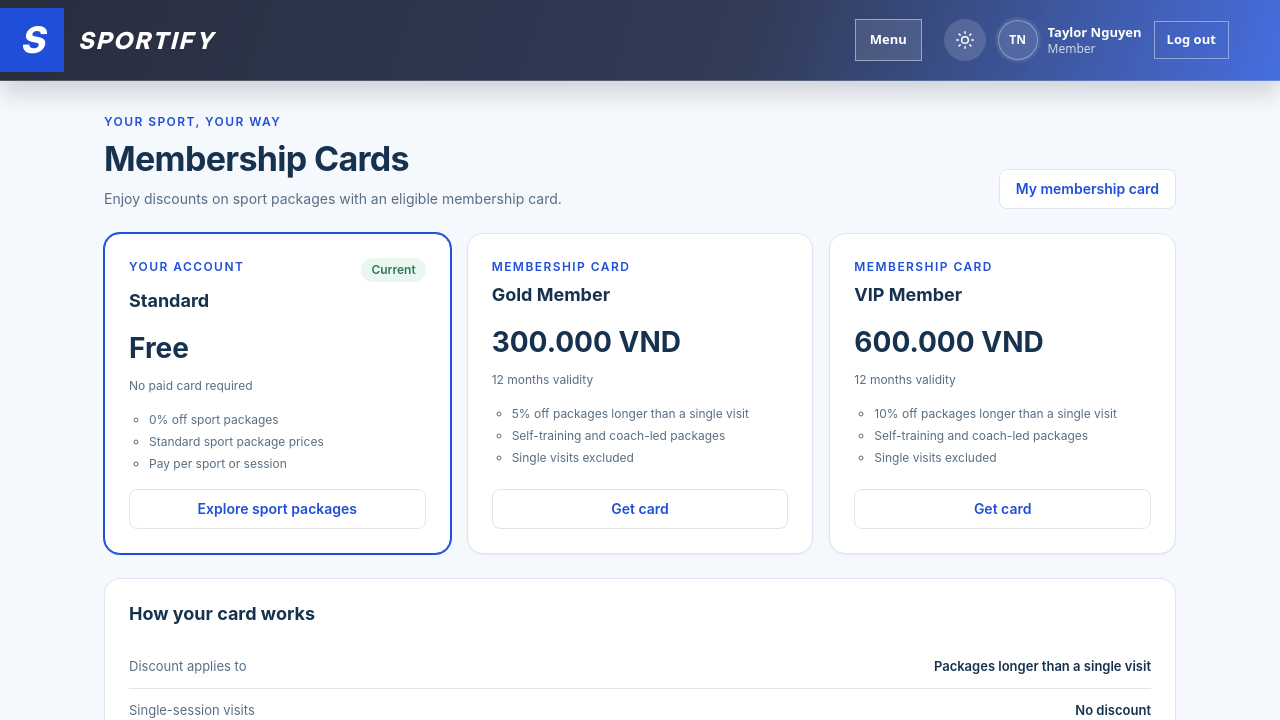
Test case: FE-04 Membership Cards (F1-11) › TC-FE04-031 new card: overlay shows today to the end of the term and the full price
The image size is (1280, 720).
expect the list named "Membership card tiers" is shown: met, box top-left (104, 233), bottom-right (1176, 554)
Click the button "Get card" below "Gold Member": (640, 509) top-left (492, 489), bottom-right (788, 529)
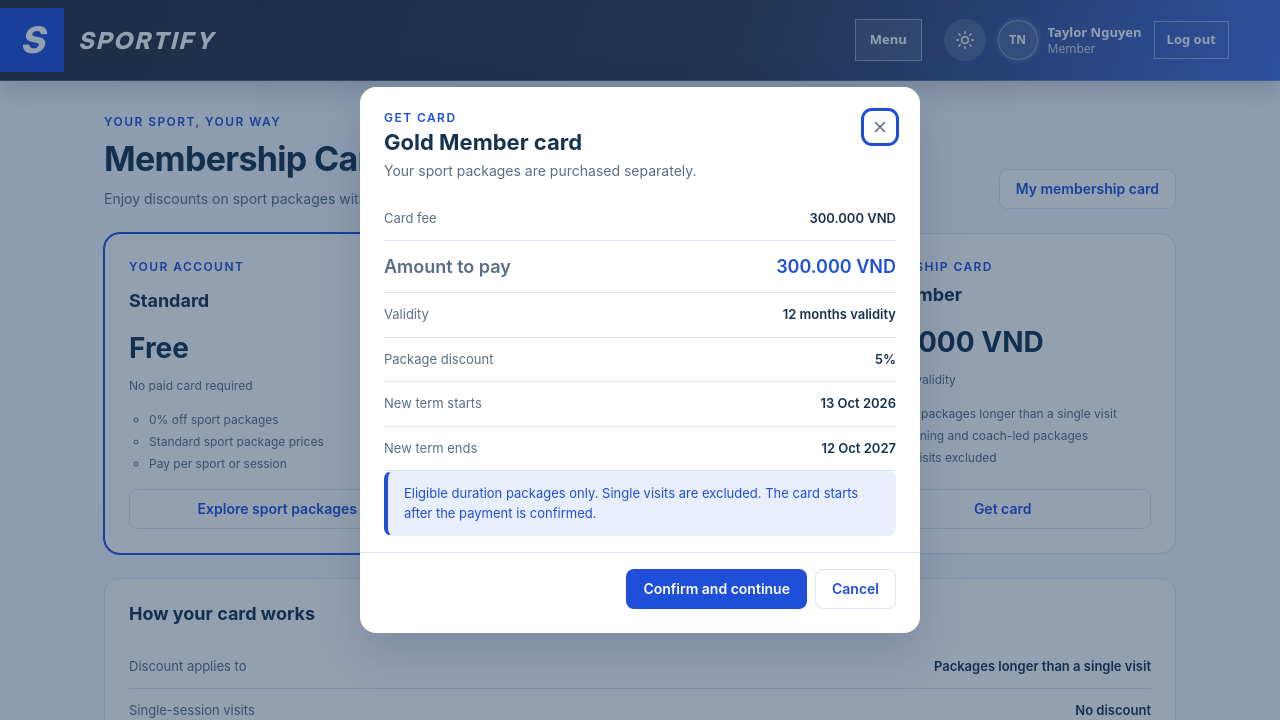
expect the text with test id "card-amount" reads "300.000 VND": met, box top-left (776, 256), bottom-right (896, 277)
expect the text with test id "card-start" reads "13 Oct 2026": met, box top-left (820, 395), bottom-right (896, 411)
expect the text with test id "card-end" reads "12 Oct 2027": met, box top-left (821, 440), bottom-right (896, 456)
